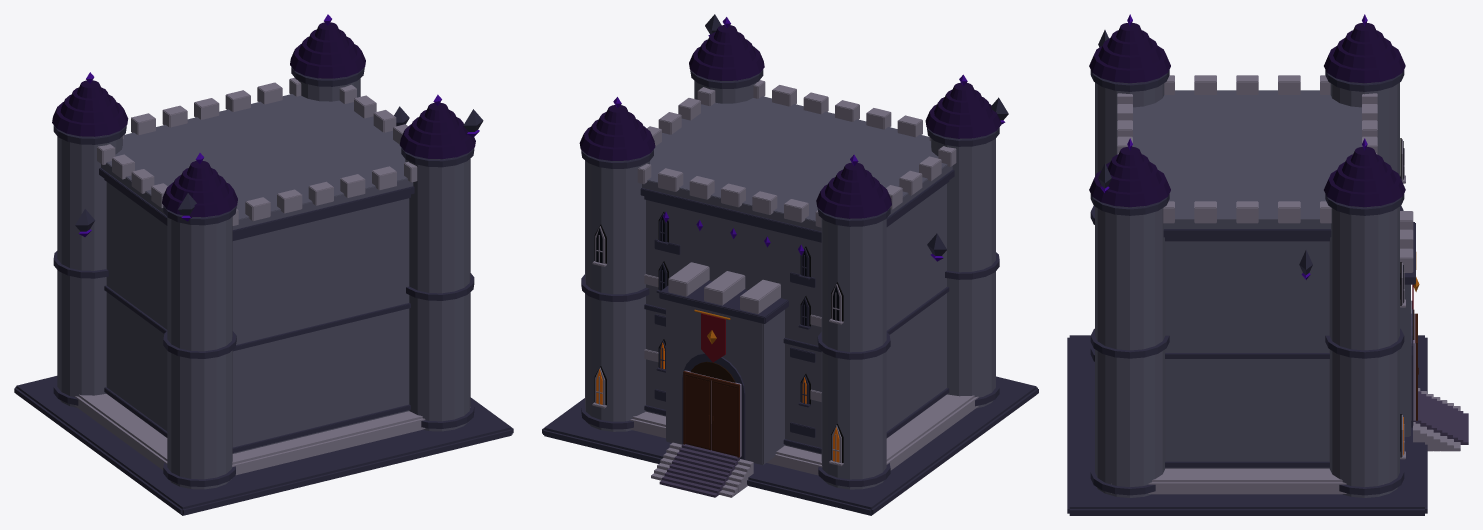
Rendered from sky-castle-visual.obj.
3 renders of one model, left to right at view 1: azimuth 30°, elevation 25°; view 2: azimuth 150°, elevation 25°; view 3: azimuth 270°, elevation 25°, orthographic. The views are drawn at different scales.
Visible parts, largest first — view 1: Keep, Turret4, Turret3, Turret2, Foundation_01, Battlements, Turret1; view 2: Keep, Turret2, Turret1, Turret4, Gatehouse, Foundation_01, Battlements, Turret3, Masonry, KeepWindows, HouseDoorLeaf_L_Panel, HouseDoorLeaf_R_Panel (+2 smaller); view 3: Keep, Turret1, Turret3, Foundation_01, Turret2, Turret4, Battlements, Gatehouse, Approach.
Part boxes in pixels (x1,y1,x2,y2): Keep: [75, 94, 470, 485]; Turret4: [162, 160, 237, 489]; Turret3: [400, 102, 475, 431]; Turret2: [52, 80, 128, 407]; Foundation_01: [14, 376, 513, 515]; Battlements: [97, 77, 417, 225]; Turret1: [290, 22, 365, 101]; Keep: [630, 96, 978, 486]; Turret2: [816, 162, 891, 489]; Turret1: [579, 105, 655, 431]; Turret4: [925, 82, 1001, 408]; Gatehouse: [659, 262, 788, 464]; Foundation_01: [542, 376, 1038, 515]; Battlements: [637, 80, 956, 227]; Turret3: [689, 25, 764, 103]; Masonry: [644, 239, 821, 437]; KeepWindows: [656, 212, 810, 407]; HouseDoorLeaf_L_Panel: [685, 376, 709, 448]; HouseDoorLeaf_R_Panel: [712, 382, 736, 455]; Keep: [1111, 90, 1383, 494]; Turret1: [1324, 146, 1405, 497]; Turret3: [1089, 146, 1170, 497]; Foundation_01: [1067, 335, 1427, 515]; Turret2: [1324, 23, 1405, 210]; Turret4: [1089, 23, 1170, 361]; Battlements: [1117, 75, 1377, 223]; Gatehouse: [1400, 211, 1415, 436]; Approach: [1413, 388, 1460, 451].
Size of the model in its own units: 55.08 by 50.4 by 51.73.
